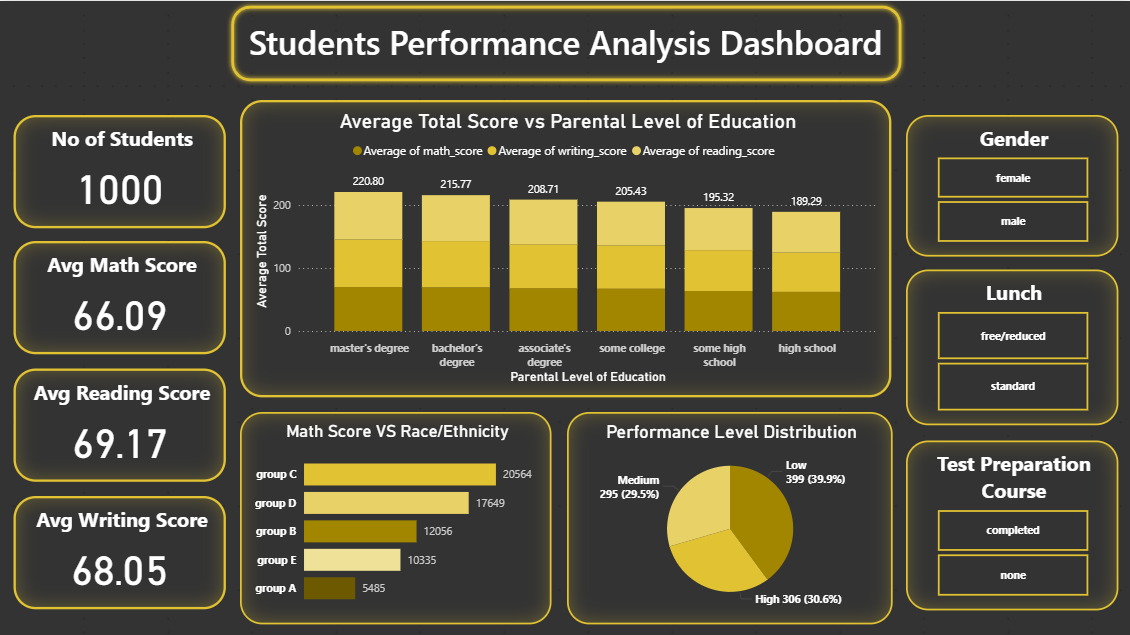

What the dashboard file says about the page in this screenshot:
{"tool":"powerbi","page":{"name":"Page 1","canvas":[1280,720],"ordinal":0},"visuals":[{"type":"shape","box":[256,0,768,96],"z":0},{"type":"textbox","box":[272,16,736,64],"z":1000},{"type":"card","title":"No of Students","fields":{"Values":["CountNonNull(Student_Performance.gender)"]},"box":[16,128,240,128],"z":2000},{"type":"card","title":"Avg Math Score","fields":{"Values":["Avg(Student_Performance.math_score)"]},"box":[16,272,240,128],"z":3000},{"type":"card","title":"Avg Reading Score","fields":{"Values":["Avg(Student_Performance.reading_score)"]},"box":[16,416,240,128],"z":4000},{"type":"card","title":"Avg Writing Score","fields":{"Values":["Avg(Student_Performance.writing_score)"]},"box":[16,560,240,128],"z":5000},{"type":"columnChart","title":"Average Total Score vs Parental Level of Education","fields":{"Category":["Student_Performance.parental_level_of_education"],"Y":["Avg(Student_Performance.math_score)","Avg(Student_Performance.writing_score)","Avg(Student_Performance.reading_score)"]},"box":[272,112,736,336],"z":6000},{"type":"clusteredBarChart","title":"Math Score VS Race/Ethnicity","fields":{"Category":["Student_Performance.race/ethnicity"],"Y":["Sum(Student_Performance.math_score)"]},"box":[272,464,352,240],"z":7000},{"type":"pieChart","title":"Performance Level Distribution","fields":{"Category":["Student_Performance.performance_level"],"Y":["CountNonNull(Student_Performance.gender)"]},"box":[640,464,368,240],"z":8000},{"type":"slicer","title":"Gender","fields":{"Values":["Student_Performance.gender"]},"box":[1024,128,240,160],"z":9000},{"type":"slicer","title":"Lunch","fields":{"Values":["Student_Performance.lunch"]},"box":[1024,304,240,176],"z":9001},{"type":"slicer","title":"Test Preparation Course","fields":{"Values":["Student_Performance.test_preparation_course"]},"box":[1024,496,240,192],"z":9002}]}

Visuals, with their boxes in screenshot pixels (x1, y1, x2, y2), scaled from the page's 1280x720 canvas onto the 1130x635 screenshot:
shape: box(226, 0, 904, 85)
textbox: box(240, 14, 890, 71)
"No of Students" card: box(14, 113, 226, 226)
"Avg Math Score" card: box(14, 240, 226, 353)
"Avg Reading Score" card: box(14, 367, 226, 480)
"Avg Writing Score" card: box(14, 494, 226, 607)
"Average Total Score vs Parental Level of Education" columnChart: box(240, 99, 890, 395)
"Math Score VS Race/Ethnicity" clusteredBarChart: box(240, 409, 551, 621)
"Performance Level Distribution" pieChart: box(565, 409, 890, 621)
"Gender" slicer: box(904, 113, 1116, 254)
"Lunch" slicer: box(904, 268, 1116, 423)
"Test Preparation Course" slicer: box(904, 437, 1116, 607)
